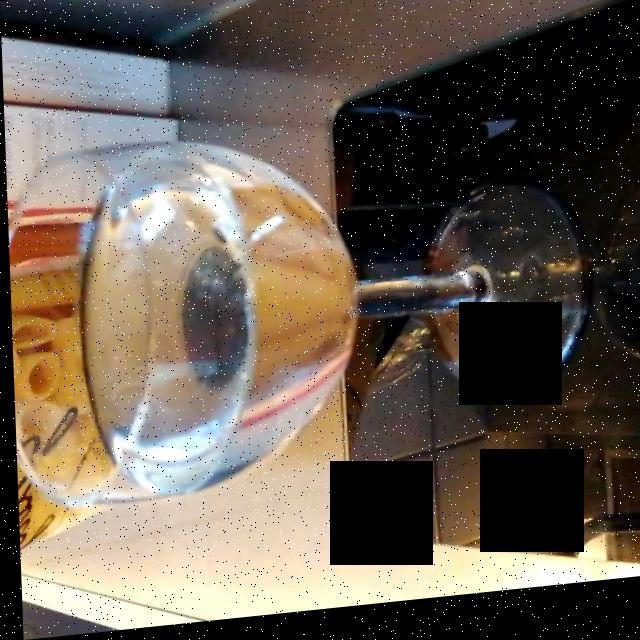water: (66, 141, 352, 511)
